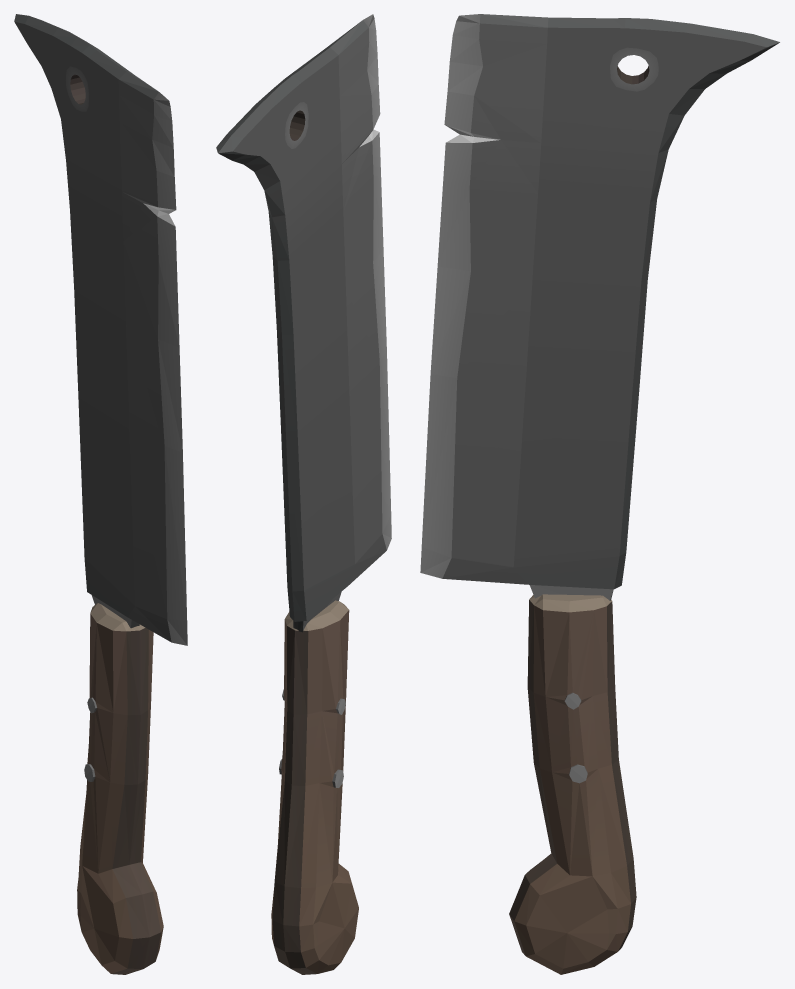
File: bladedHeavyButcherCleaverPointed.glb
3 renders of one model, left to right at view 1: azimuth 30°, elevation 25°; view 2: azimuth 150°, elevation 25°; view 3: azimuth 270°, elevation 25°, orthographic. The views are drawn at different scales.
Visible parts, largest first — view 1: bladedHeavyButcherCleaverPointed; view 2: bladedHeavyButcherCleaverPointed; view 3: bladedHeavyButcherCleaverPointed.
Part boxes in pixels (x1,y1,x2,y2): bladedHeavyButcherCleaverPointed: (14,14,187,974); bladedHeavyButcherCleaverPointed: (216,14,391,974); bladedHeavyButcherCleaverPointed: (420,14,779,974).
Bounding box in the file's own units: 0.0468 × 0.7361 × 0.2513.
